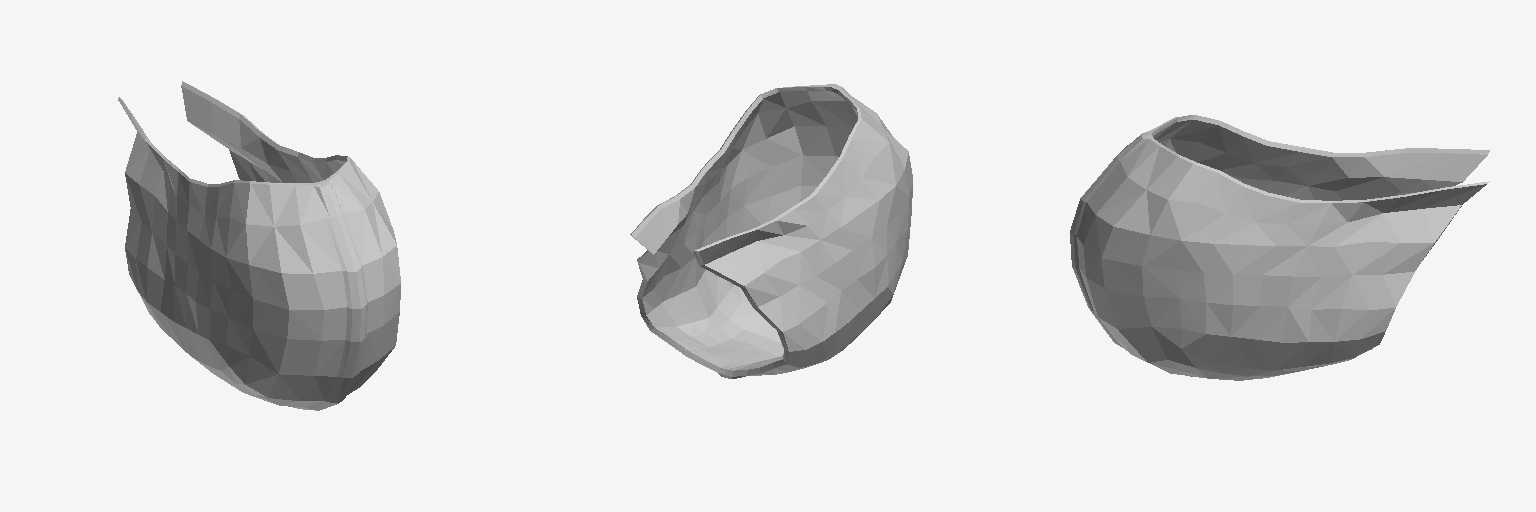
File: Hood.obj
3 views of the same model, side by side, from view 1: azimuth 30°, elevation 25°; view 2: azimuth 150°, elevation 25°; view 3: azimuth 270°, elevation 25° (orthographic).
Parts seen in each view (by area): view 1: HoodNew; view 2: HoodNew; view 3: HoodNew.
Boxes of the visible parts, <box> form: HoodNew: <box>118,81,400,410</box>; HoodNew: <box>630,84,912,378</box>; HoodNew: <box>1070,115,1489,380</box>.
Size of the model in its own units: 15.82 by 21.94 by 34.4.